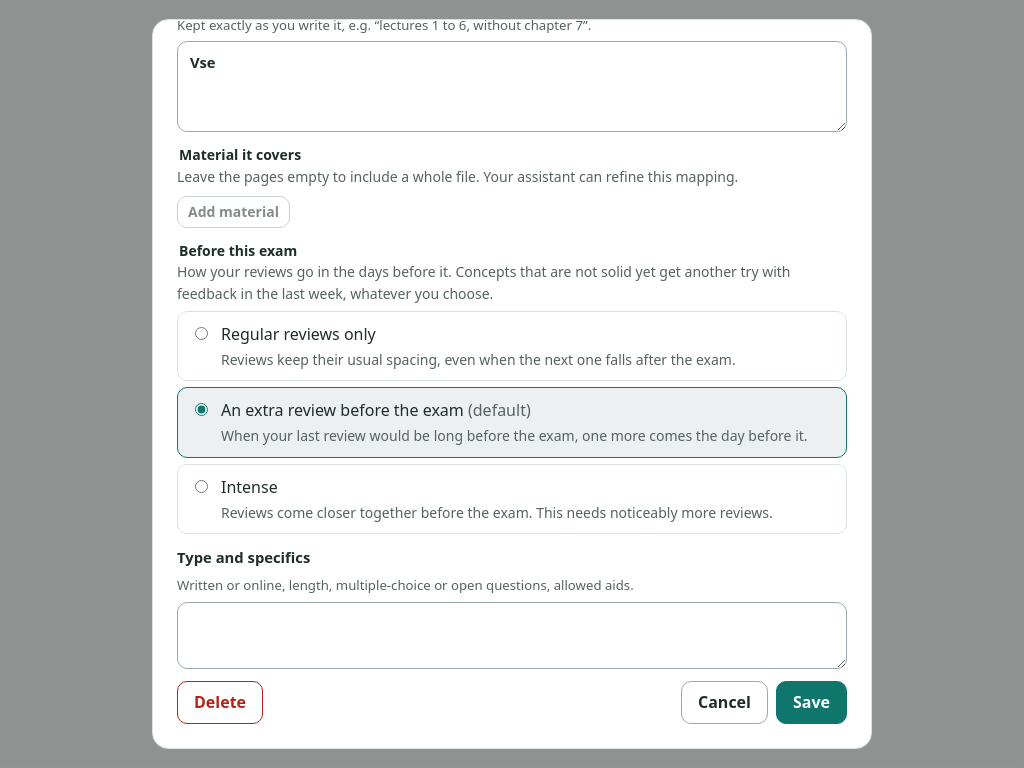
Test: Before this exam (ADR-014 §4) › starts at the goal's default and warns about intense
(page scrolled)
Expected: the radio button labelled "An extra review before the exam" is checked, top-left (195, 403), bottom-right (208, 416)
Expected: the radio button labelled "Intense" does not show "(default)"
Click the radio button labelled "Intense": (202, 486) top-left (195, 480), bottom-right (208, 493)
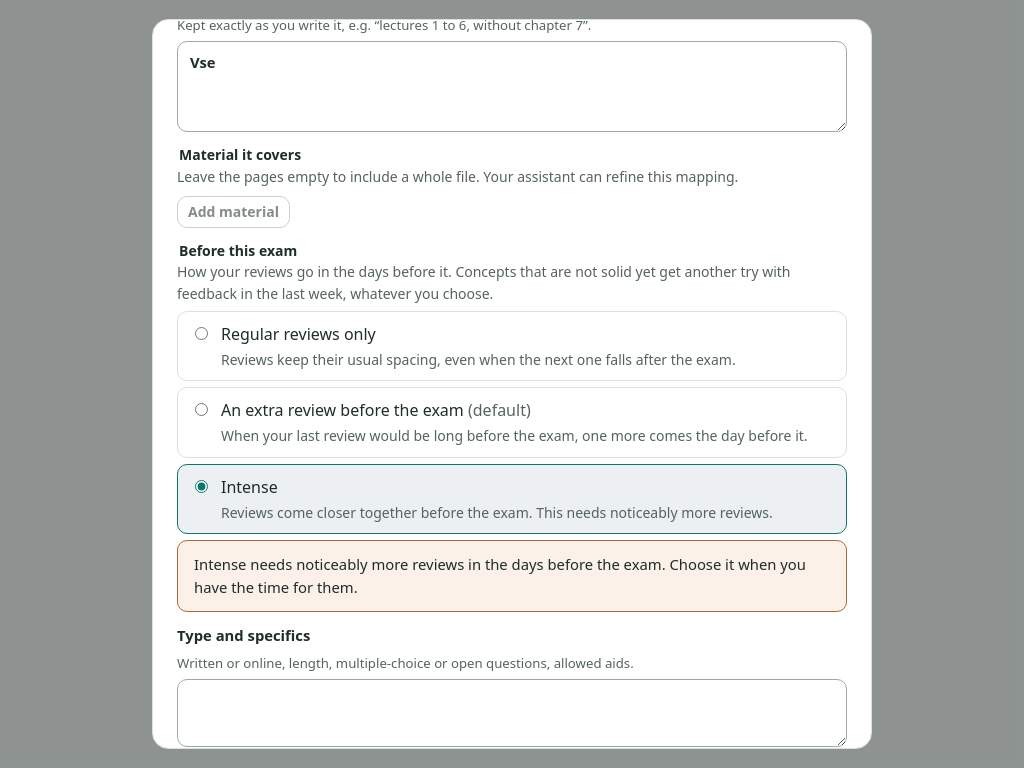
Now the message shows "noticeably more reviews", box top-left (194, 554), bottom-right (806, 597)
